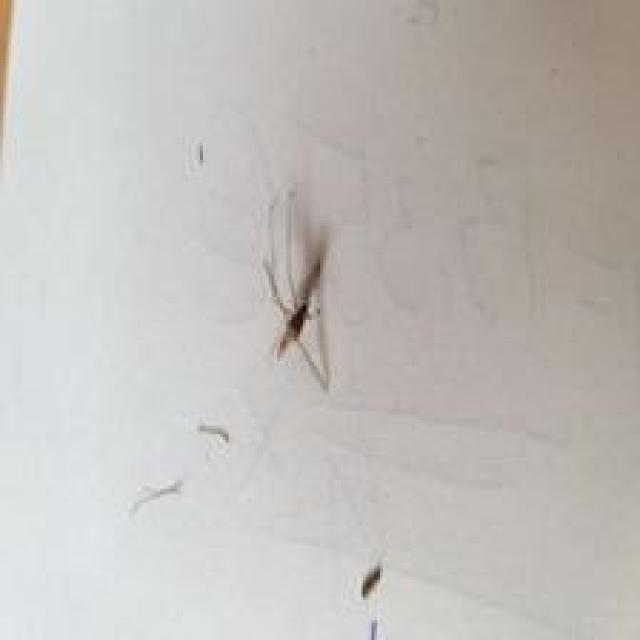Culex: (260, 181, 331, 390)
